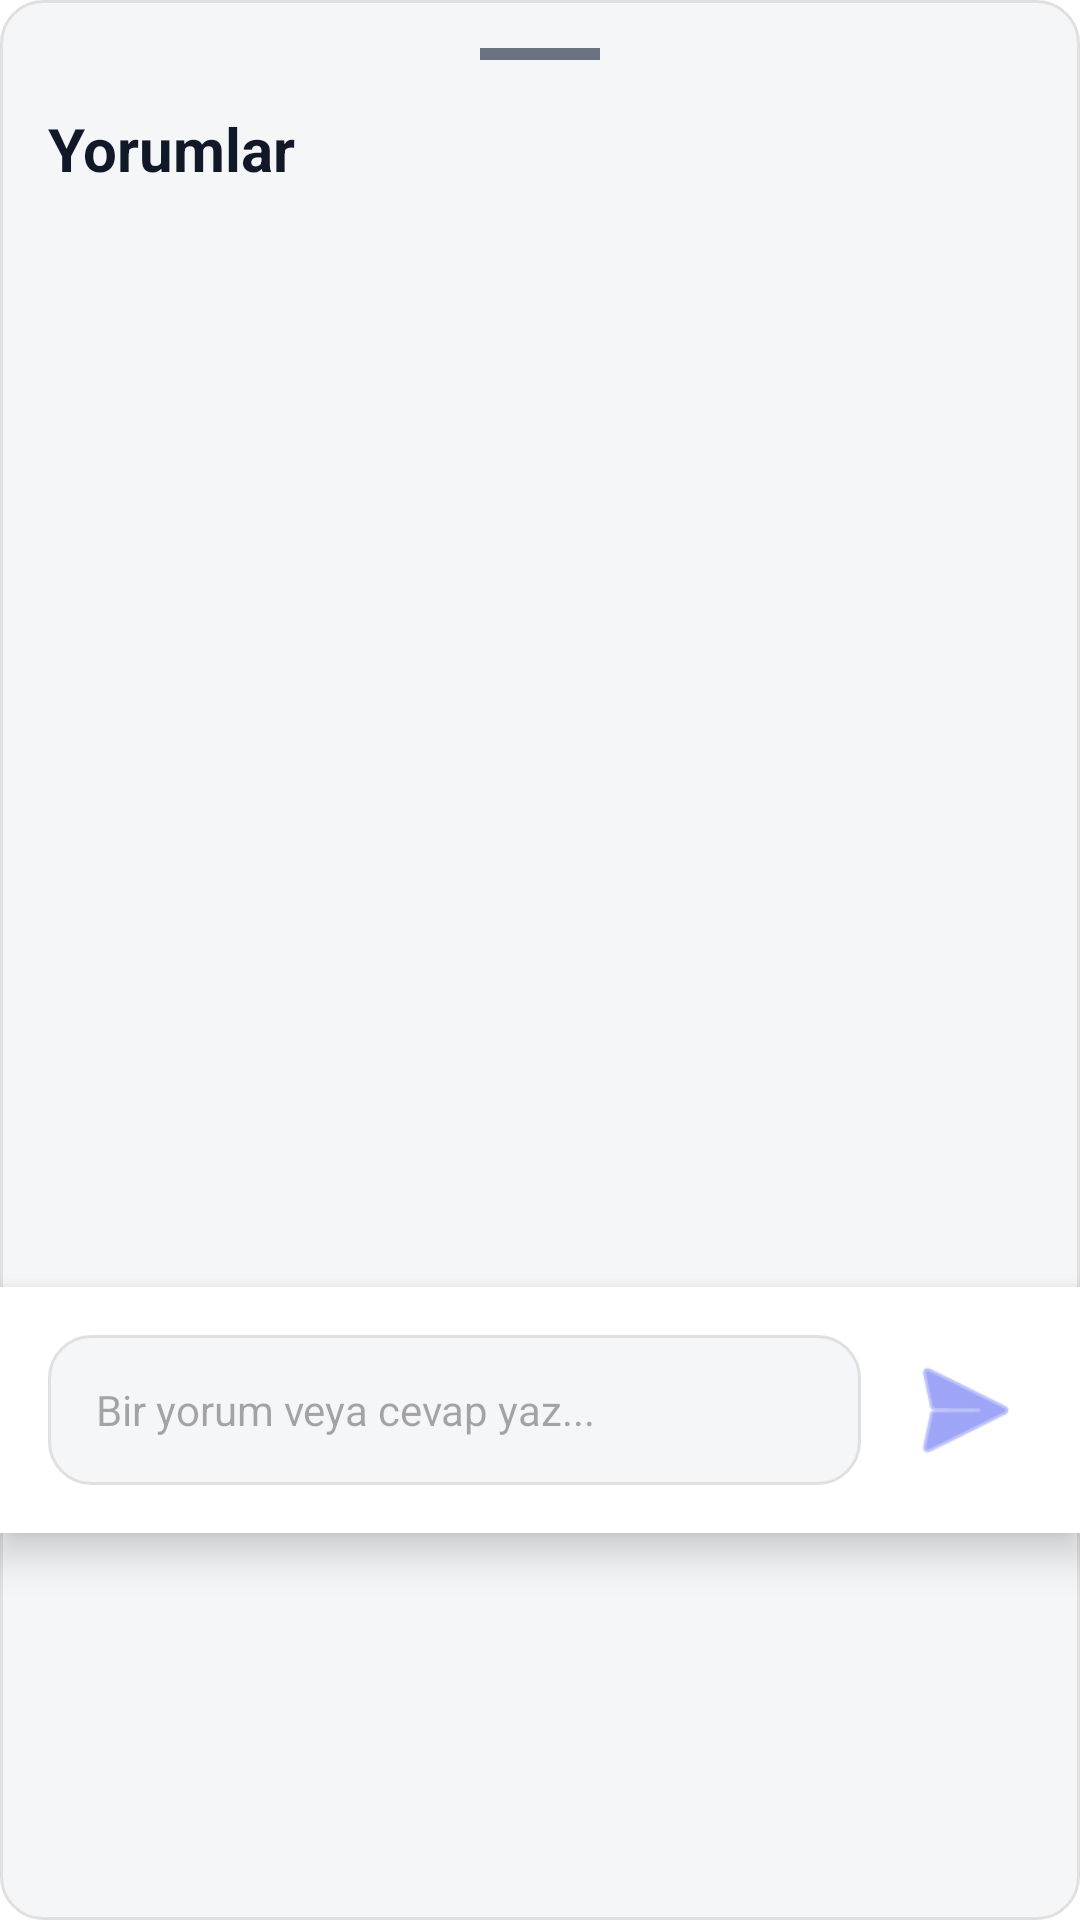

Screen size 1080 × 1920. Icon name, then its center in pixels as (x=x, y=y):
send: (x=966, y=1410)
